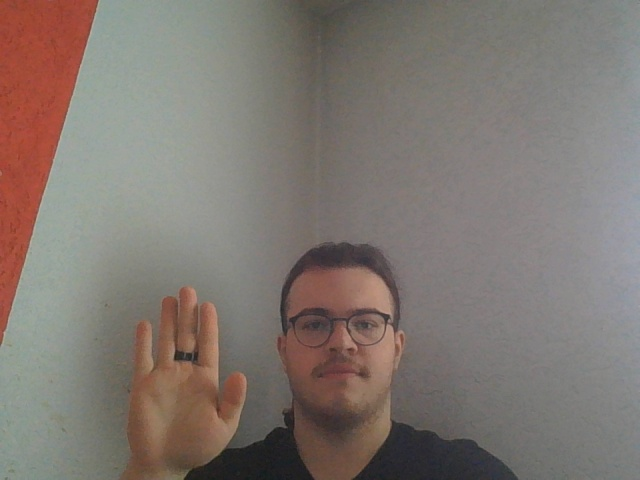Hello: (123, 285, 248, 470)
